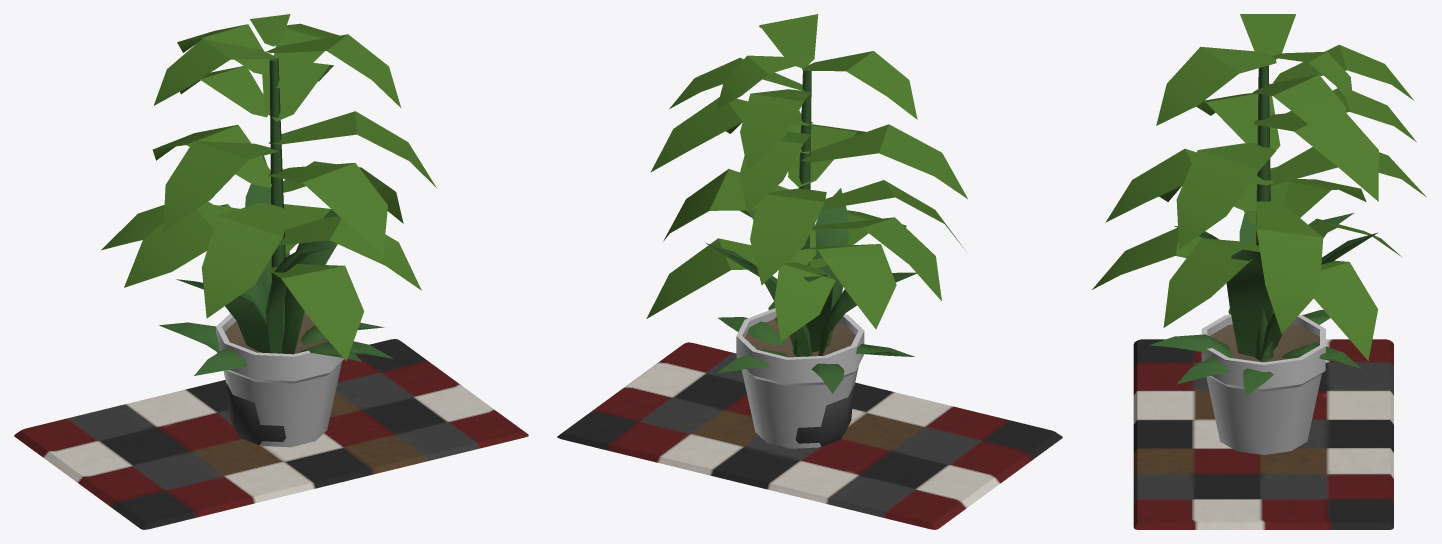
File: Decoration_Plants_Carpet.fbx
3 renders of one model, left to right at view 1: azimuth 30°, elevation 25°; view 2: azimuth 150°, elevation 25°; view 3: azimuth 270°, elevation 25°, orthographic.
Visible parts, largest first — view 1: Plant 1, Carpet, Plant 2; view 2: Plant 1, Carpet, Plant 2; view 3: Plant 1, Carpet, Plant 2.
Boxes of the visible parts, x1=… form: Plant 1: x1=101, y1=14, x2=436, y2=447; Carpet: x1=14, y1=339, x2=528, y2=529; Plant 2: x1=159, y1=155, x2=393, y2=444; Plant 1: x1=646, y1=14, x2=967, y2=448; Carpet: x1=557, y1=342, x2=1062, y2=529; Plant 2: x1=705, y1=188, x2=916, y2=446; Plant 1: x1=1092, y1=14, x2=1426, y2=454; Carpet: x1=1133, y1=339, x2=1393, y2=529; Plant 2: x1=1149, y1=213, x2=1377, y2=396.
Bounding box in the file's own units: 183 × 182 × 138.
